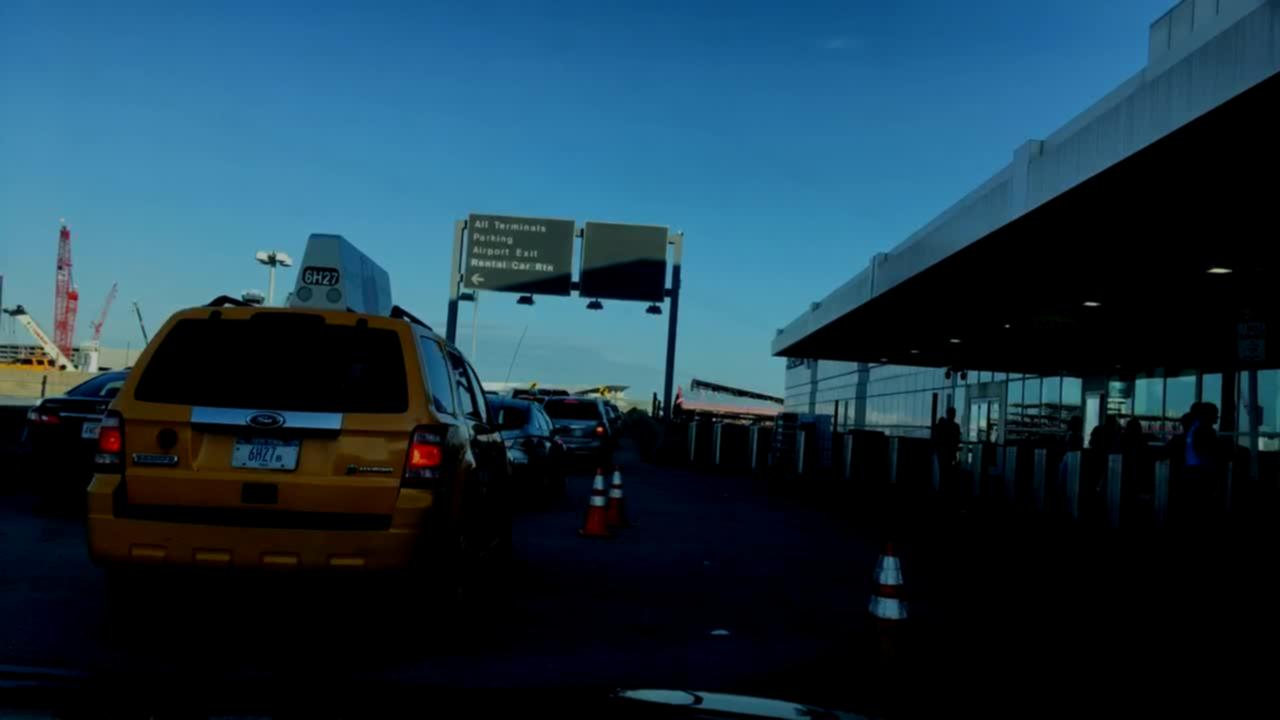ford: (241, 408, 290, 432)
